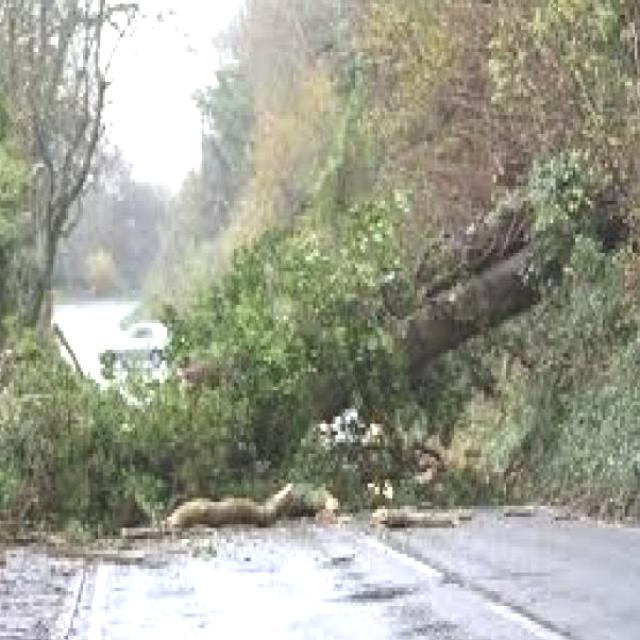fallen_object: (11, 183, 618, 460)
